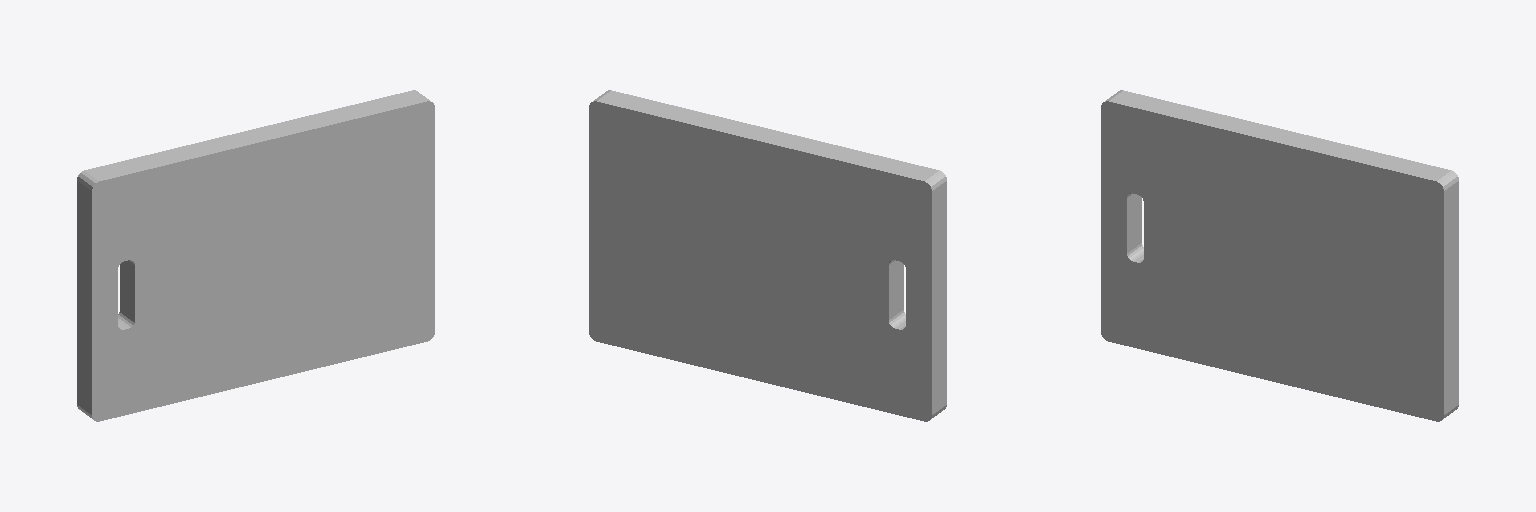
The model's file is cutting.obj.
3 views of the same model, side by side, from view 1: azimuth 30°, elevation 25°; view 2: azimuth 150°, elevation 25°; view 3: azimuth 330°, elevation 25° (orthographic).
Parts seen in each view (by area): view 1: Cube; view 2: Cube; view 3: Cube.
Boxes of the visible parts, x1,y1,x2,y2 form: Cube: [77, 90, 434, 421]; Cube: [589, 90, 946, 421]; Cube: [1101, 90, 1458, 421].
Bounding box in the file's own units: 5.98 × 4 × 0.4552.